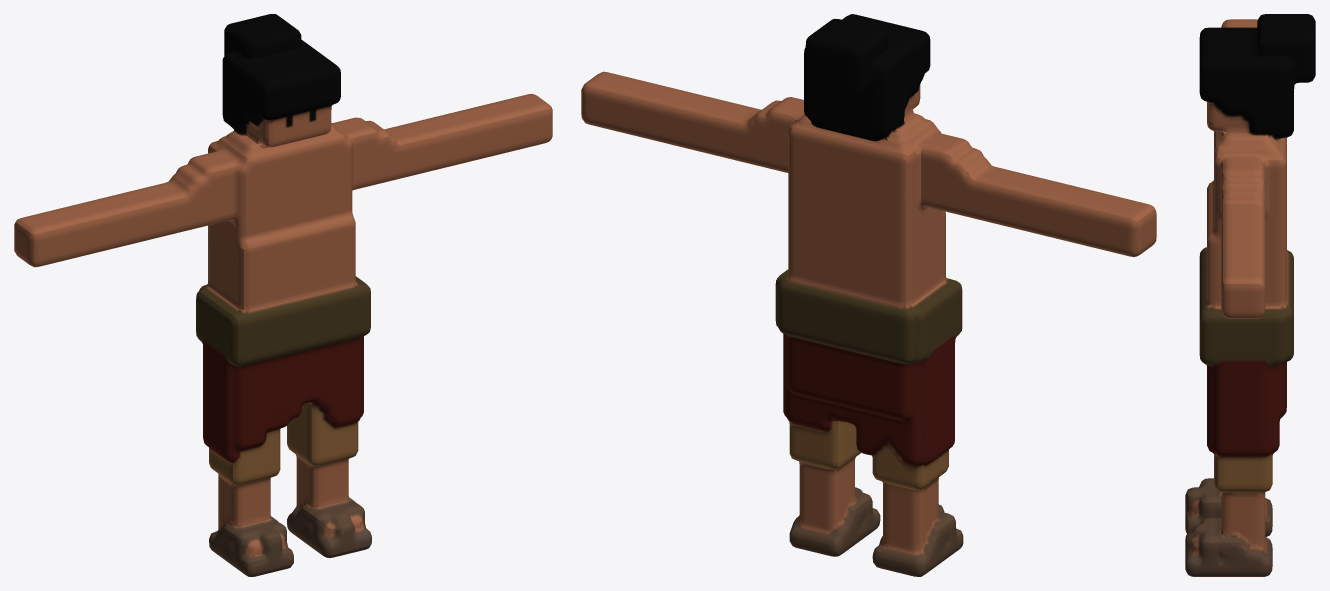
The model's file is normies1_enemy.fbx.
3 views of the same model, side by side, from view 1: azimuth 30°, elevation 25°; view 2: azimuth 150°, elevation 25°; view 3: azimuth 270°, elevation 25° (orthographic). The views are drawn at different scales.
Parts seen in each view (by area): view 1: Object; view 2: Object; view 3: Object.
Boxes of the visible parts, bbox=[...] form: Object: bbox=[14, 14, 552, 576]; Object: bbox=[581, 14, 1156, 576]; Object: bbox=[1185, 14, 1315, 576].
Bounding box in the file's own units: 4100 × 3771 × 853.
Materials: 1 (1 with a texture image).
